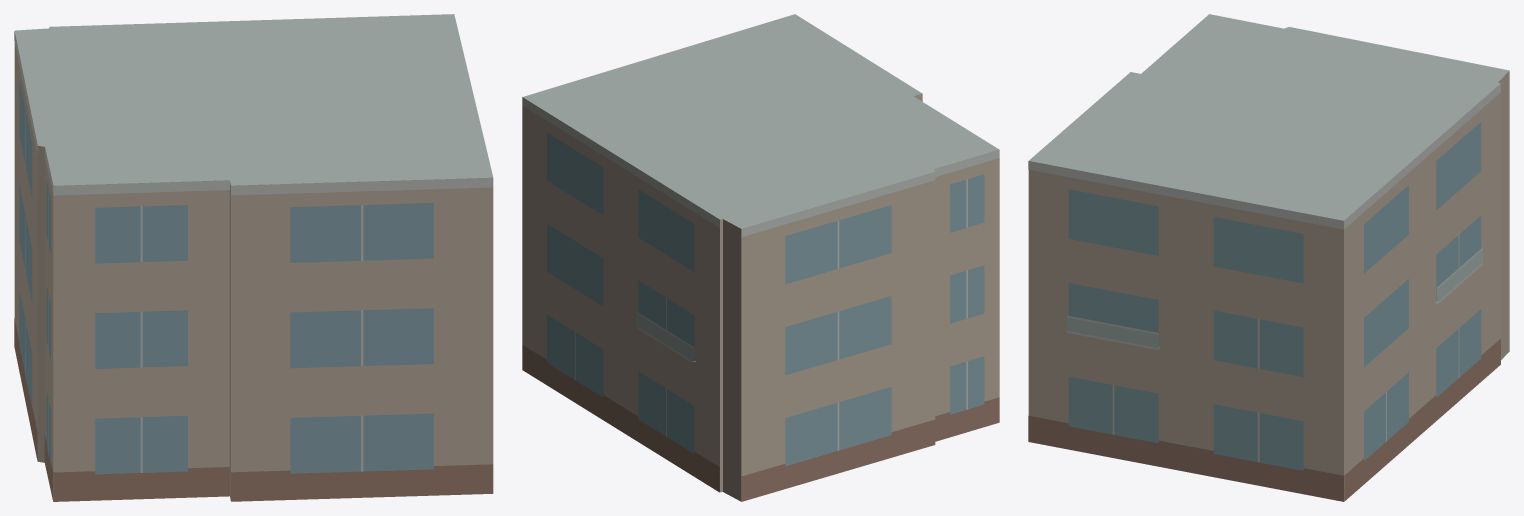
The model's file is survey-upis-32637227.glb.
The picture shows the model from 3 angles, left to right: view 1: azimuth 30°, elevation 25°; view 2: azimuth 150°, elevation 25°; view 3: azimuth 270°, elevation 25°; orthographic projection. The views are drawn at different scales.
Parts seen in each view (by area): view 1: survey-upis-32637227.tmp; view 2: survey-upis-32637227.tmp; view 3: survey-upis-32637227.tmp.
Boxes of the visible parts, x1,y1,x2,y2 form: survey-upis-32637227.tmp: (14,14,493,501); survey-upis-32637227.tmp: (522,14,999,501); survey-upis-32637227.tmp: (1028,14,1509,501).
Bounding box in the file's own units: 12.48 × 7.9 × 12.26.
